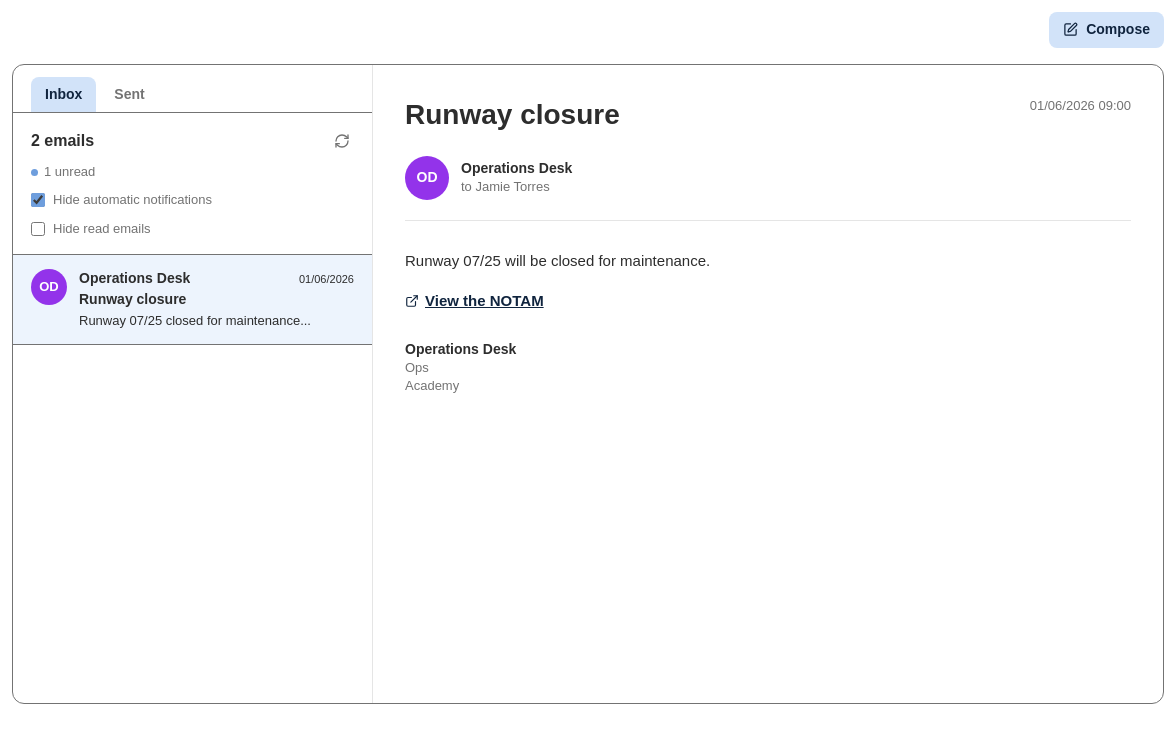
Mailbox › reveals automatic emails when the filter checkbox is unchecked
The width and height of the screenshot is (1176, 732).
Click the checkbox labelled "Hide automatic notifications". click: (38, 200)
box: [31, 194, 45, 208]
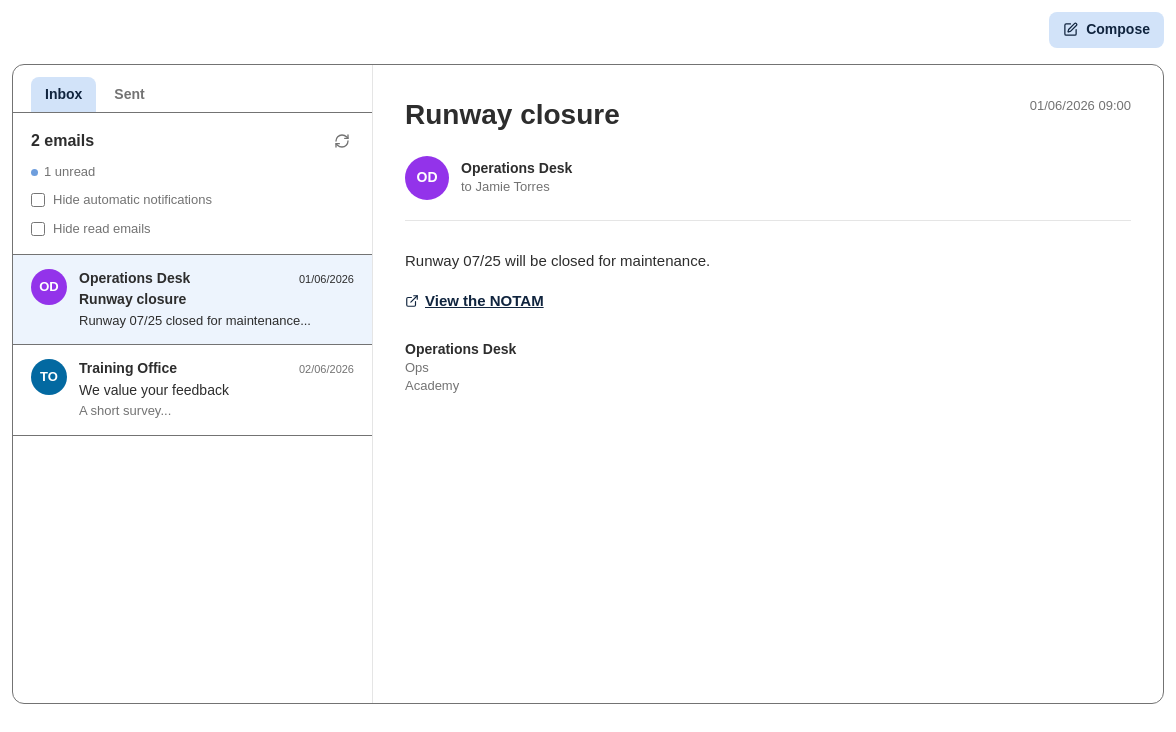
Now the button "Training Office" is shown, box [13, 345, 372, 436]
